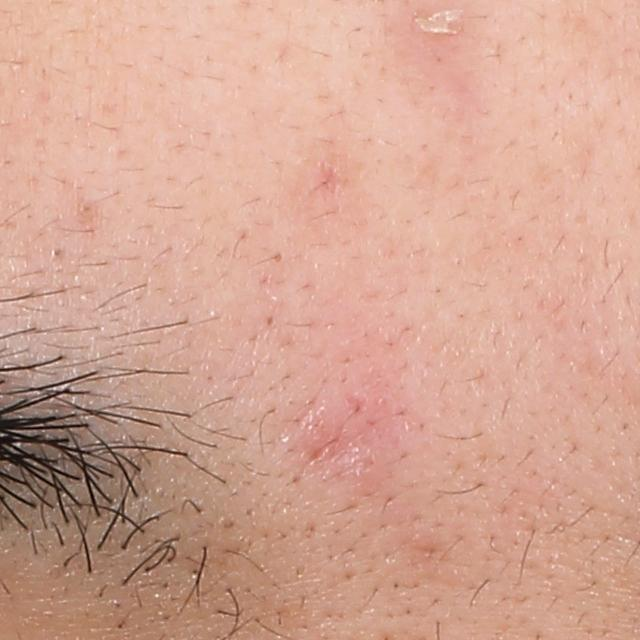comedo: (81, 200, 97, 217), (270, 249, 284, 263), (51, 245, 64, 257)
